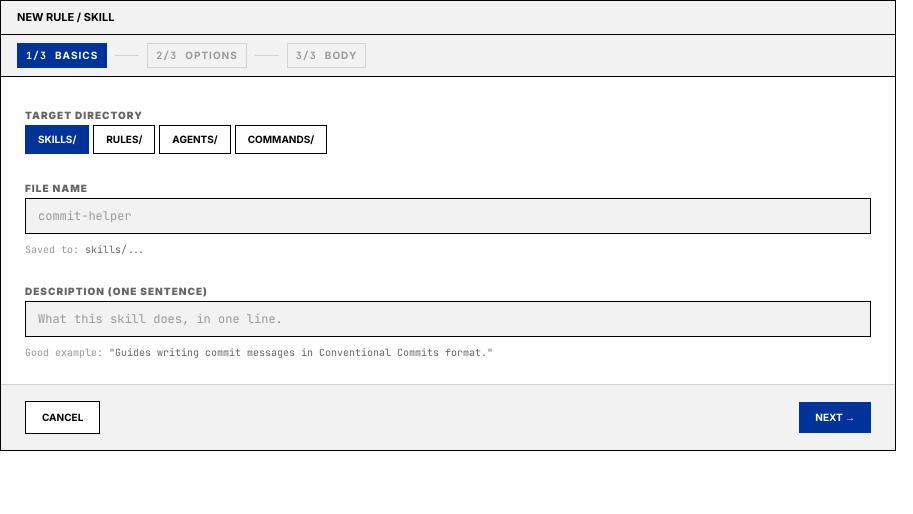
Test: SkillWizard › blocks Next while Basics fields fail validation
The image size is (913, 514).
expect the field with placeholder "commit-helper" is shown: met, box [25,198,871,234]
Click the button "Next →".
click(835, 417)  # box [799,402,871,432]
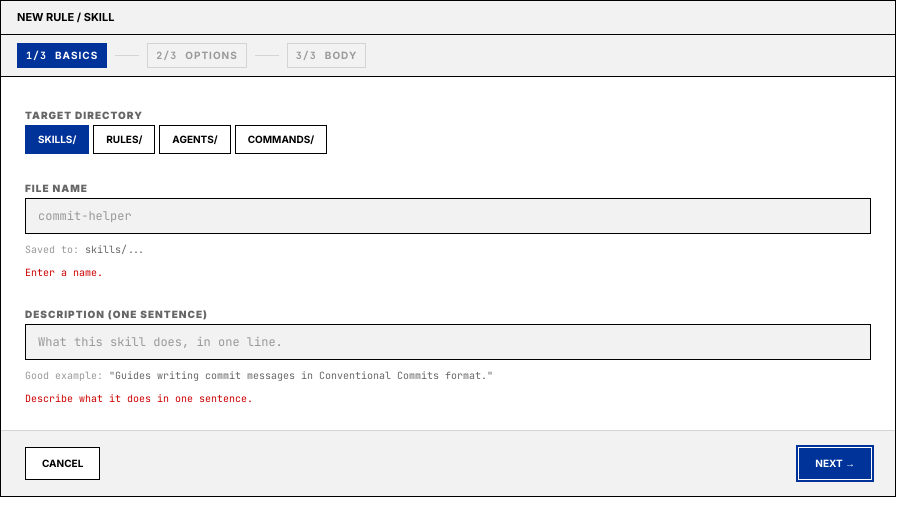
expect the text "Enter a name." is shown: met, box [25,266,103,278]
